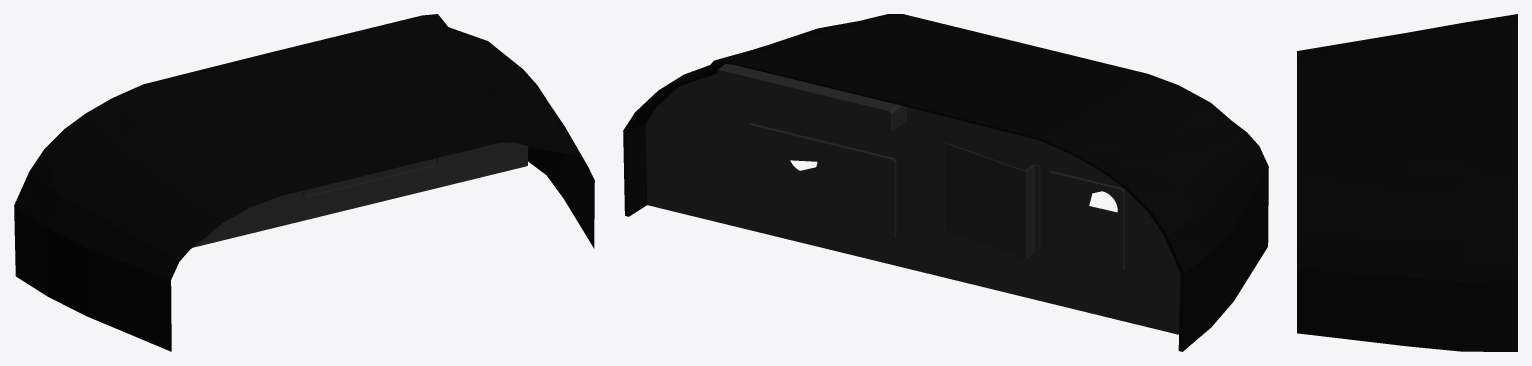
Rendered from panel.obj.
3 renders of one model, left to right at view 1: azimuth 30°, elevation 25°; view 2: azimuth 150°, elevation 25°; view 3: azimuth 270°, elevation 25°, orthographic. The views are drawn at different scales.
Parts seen in each view (by area): view 1: panel; view 2: panel; view 3: panel.
Part boxes in pixels (left/top/right/bottom): panel: left=14, top=14, right=594, bottom=351; panel: left=623, top=14, right=1268, bottom=351; panel: left=1297, top=14, right=1517, bottom=351.
Size of the model in its own units: 1.35 by 0.4144 by 0.541.
Materials: 1 (1 with a texture image).
